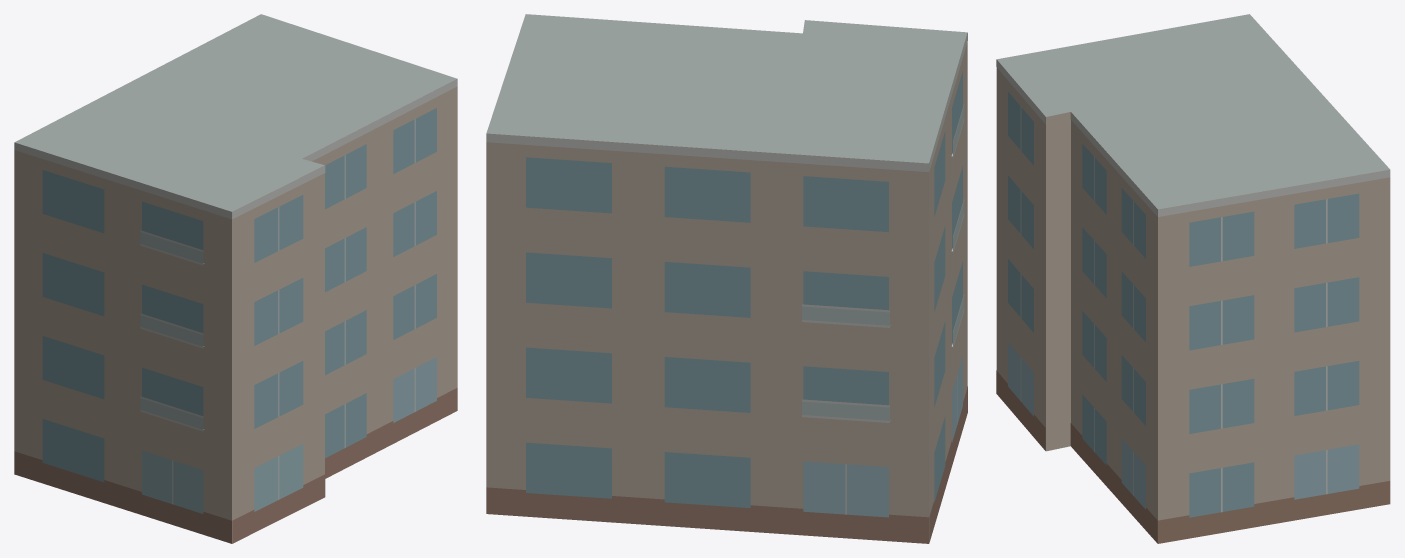
The model's file is survey-upis-32864033.glb.
3 renders of one model, left to right at view 1: azimuth 30°, elevation 25°; view 2: azimuth 150°, elevation 25°; view 3: azimuth 270°, elevation 25°, orthographic. The views are drawn at different scales.
Visible parts, largest first — view 1: survey-upis-32864033.tmp; view 2: survey-upis-32864033.tmp; view 3: survey-upis-32864033.tmp.
Boxes of the visible parts, x1,y1,x2,y2 form: survey-upis-32864033.tmp: [14, 14, 457, 543]; survey-upis-32864033.tmp: [486, 14, 967, 543]; survey-upis-32864033.tmp: [996, 14, 1390, 543].
Size of the model in its own units: 13.42 by 10.7 by 11.43.
